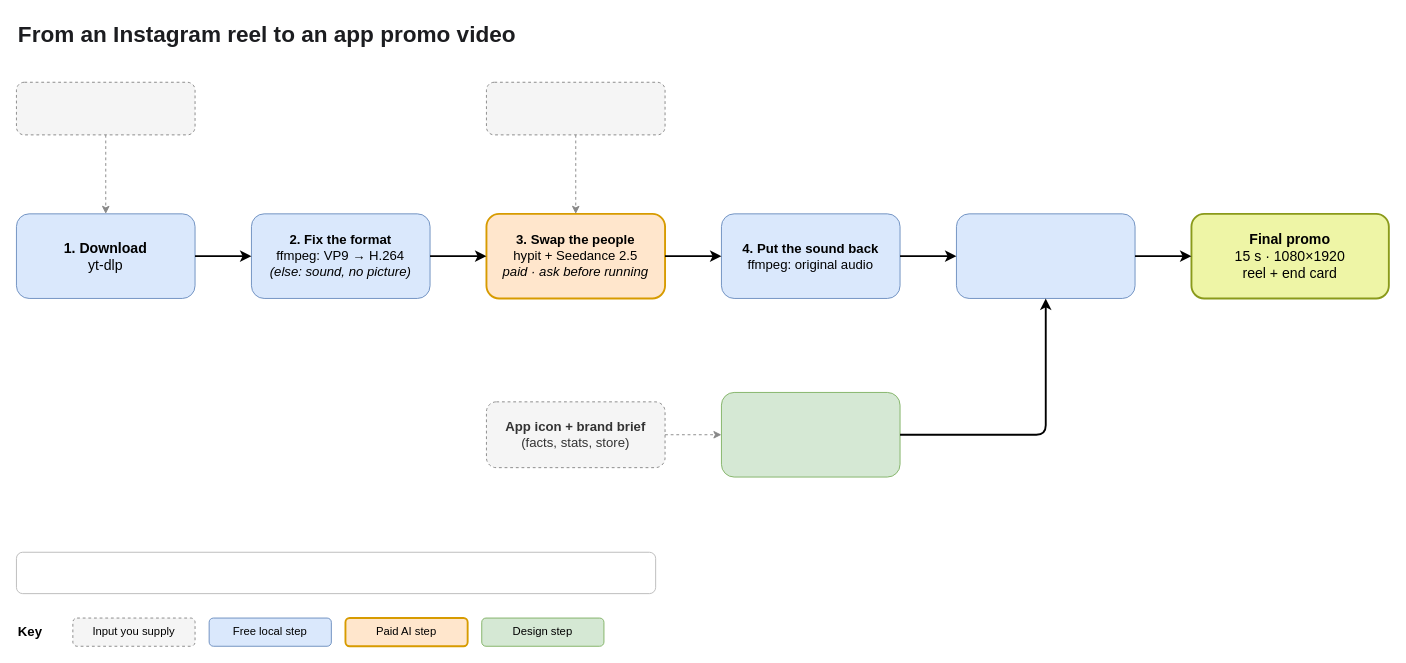
Image size: 1406x663. Some labels were removed from this diagram. The centre of each missing label's shape, as x and y in pixels:
"5. Build the end card Remotion · 6 s Logo → Download → Subscribe" belongs at pixel 810 434.
"6. Join the two ffmpeg: same size, 30fps, then concat" belongs at pixel 1045 255.
"After every step: look at a grid of frames before moving on." belongs at pixel 336 572.
"HypiHub token (file, never shown)" belongs at pixel 575 108.
"Instagram reel link" belongs at pixel 105 108.
